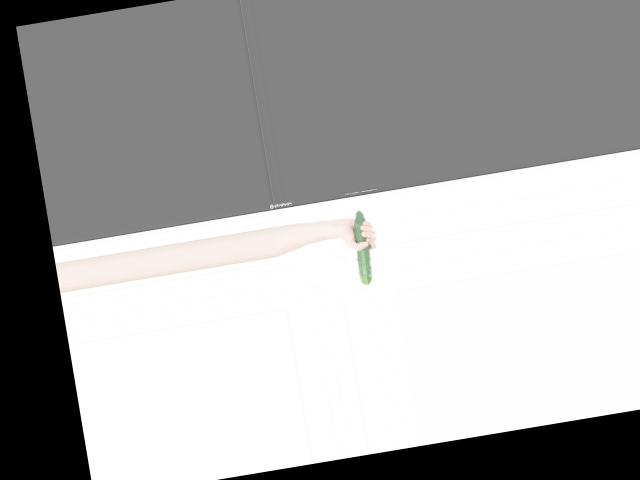cucumber: (349, 208, 376, 285)
